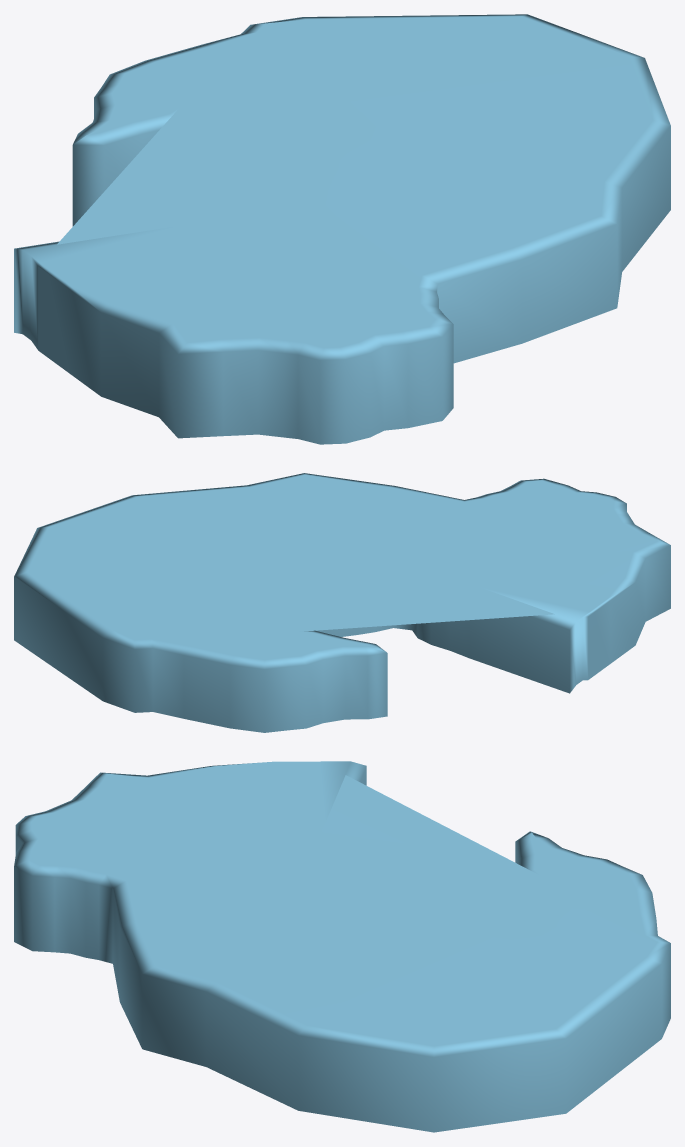
File: waterpreeeefab.fbx
The picture shows the model from 3 angles, top to bottom: view 1: azimuth 30°, elevation 25°; view 2: azimuth 150°, elevation 25°; view 3: azimuth 270°, elevation 25°; orthographic projection. The views are drawn at different scales.
Visible parts, largest first — view 1: test_watah:PolyShape_56_1; view 2: test_watah:PolyShape_56_1; view 3: test_watah:PolyShape_56_1.
Part boxes in pixels (bbox=[...]): test_watah:PolyShape_56_1: bbox=[14, 14, 670, 444]; test_watah:PolyShape_56_1: bbox=[14, 473, 670, 732]; test_watah:PolyShape_56_1: bbox=[14, 761, 670, 1132].
Size of the model in its own units: 307 by 39.14 by 292.
